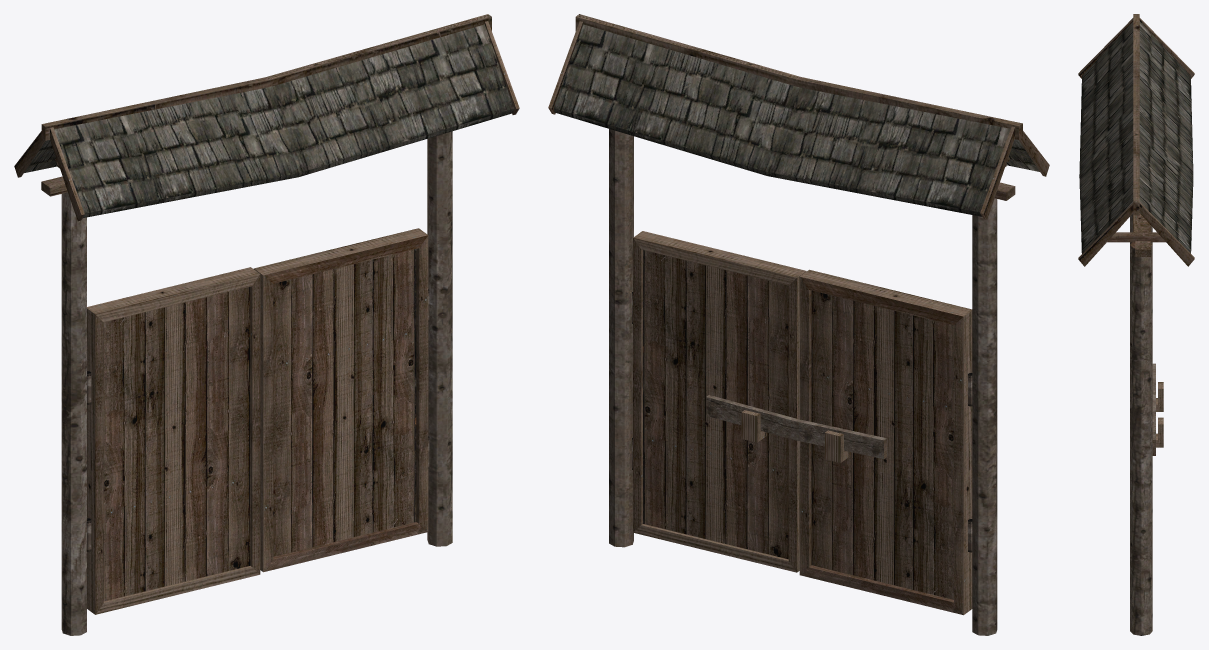
File: wooden_gate.obj
3 renders of one model, left to right at view 1: azimuth 30°, elevation 25°; view 2: azimuth 150°, elevation 25°; view 3: azimuth 270°, elevation 25°, orthographic. The views are drawn at different scales.
Visible parts, largest first — view 1: wooden_gate1:Mesh; view 2: wooden_gate1:Mesh; view 3: wooden_gate1:Mesh.
Part boxes in pixels (left/top/right/bottom): wooden_gate1:Mesh: left=14, top=14, right=519, bottom=635; wooden_gate1:Mesh: left=548, top=14, right=1049, bottom=635; wooden_gate1:Mesh: left=1078, top=14, right=1194, bottom=635.
Size of the model in its own units: 16.5 by 18.24 by 4.29.
1 material, 1 textured.
